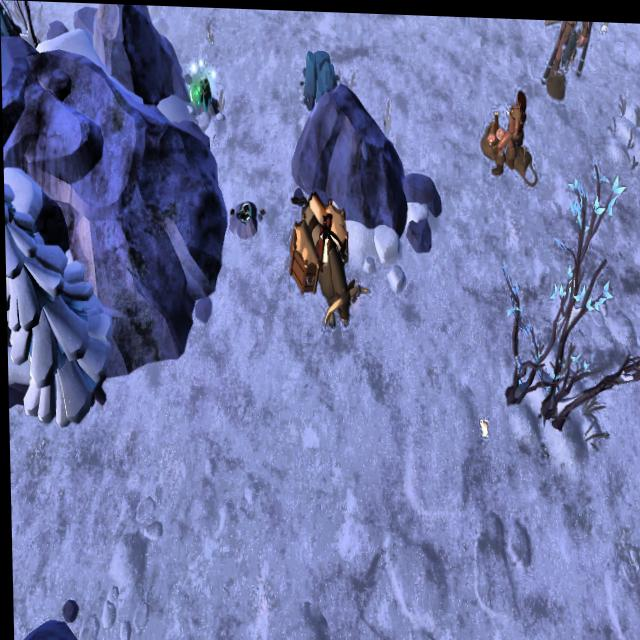enemy_factionKeeper: (494, 83, 529, 170)
rock_t4: (296, 42, 340, 111)
